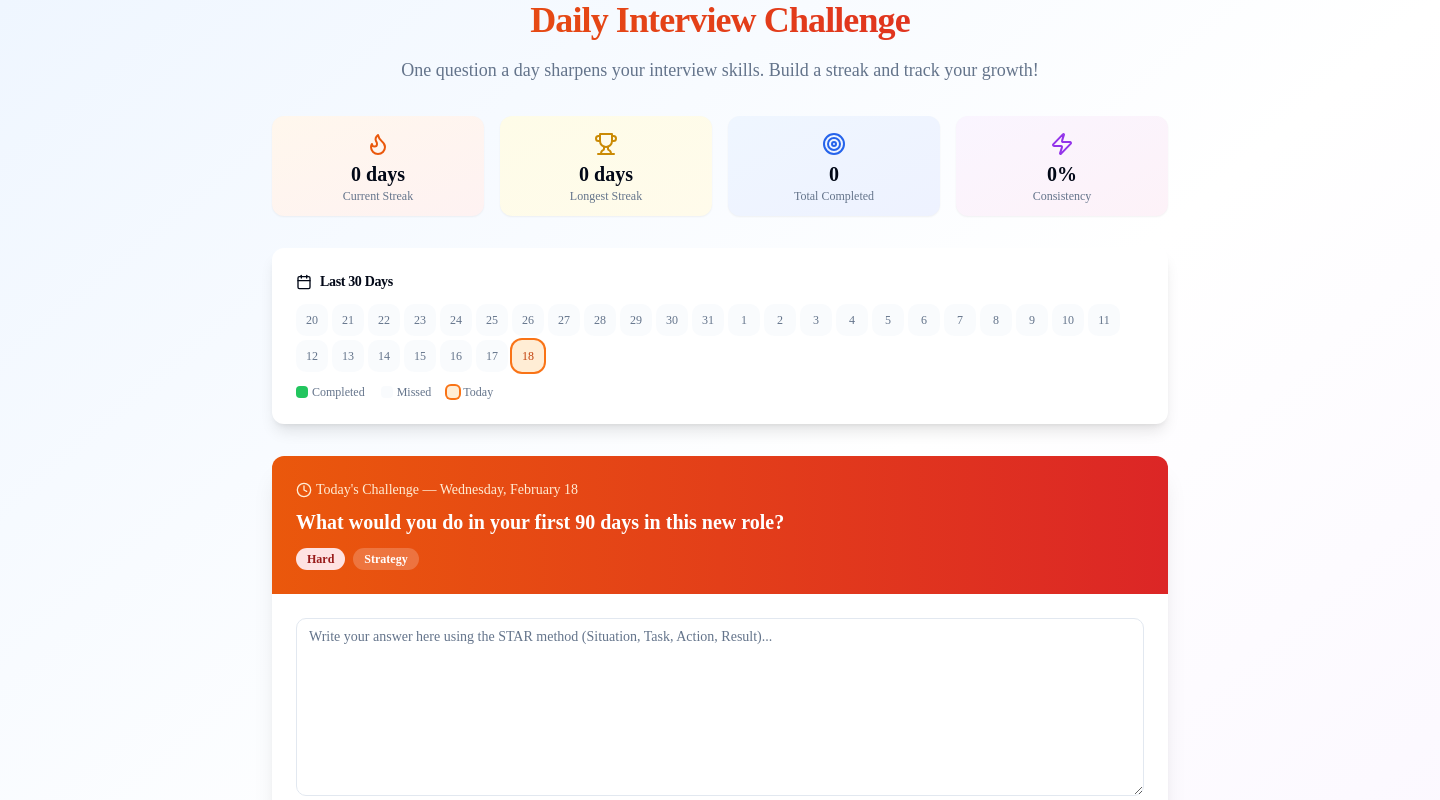
Test case: DailyChallengeClient › should submit answer and show completion state
Step 1. Replace the text in the text box with placeholder "STAR method" with "In my previous role at Company X, I was tasked with leading a critical project that required cross-functional collaboration. I organized weekly syncs and delivered on time." → (720, 707), box [296,618,1144,796]
(page scrolled)
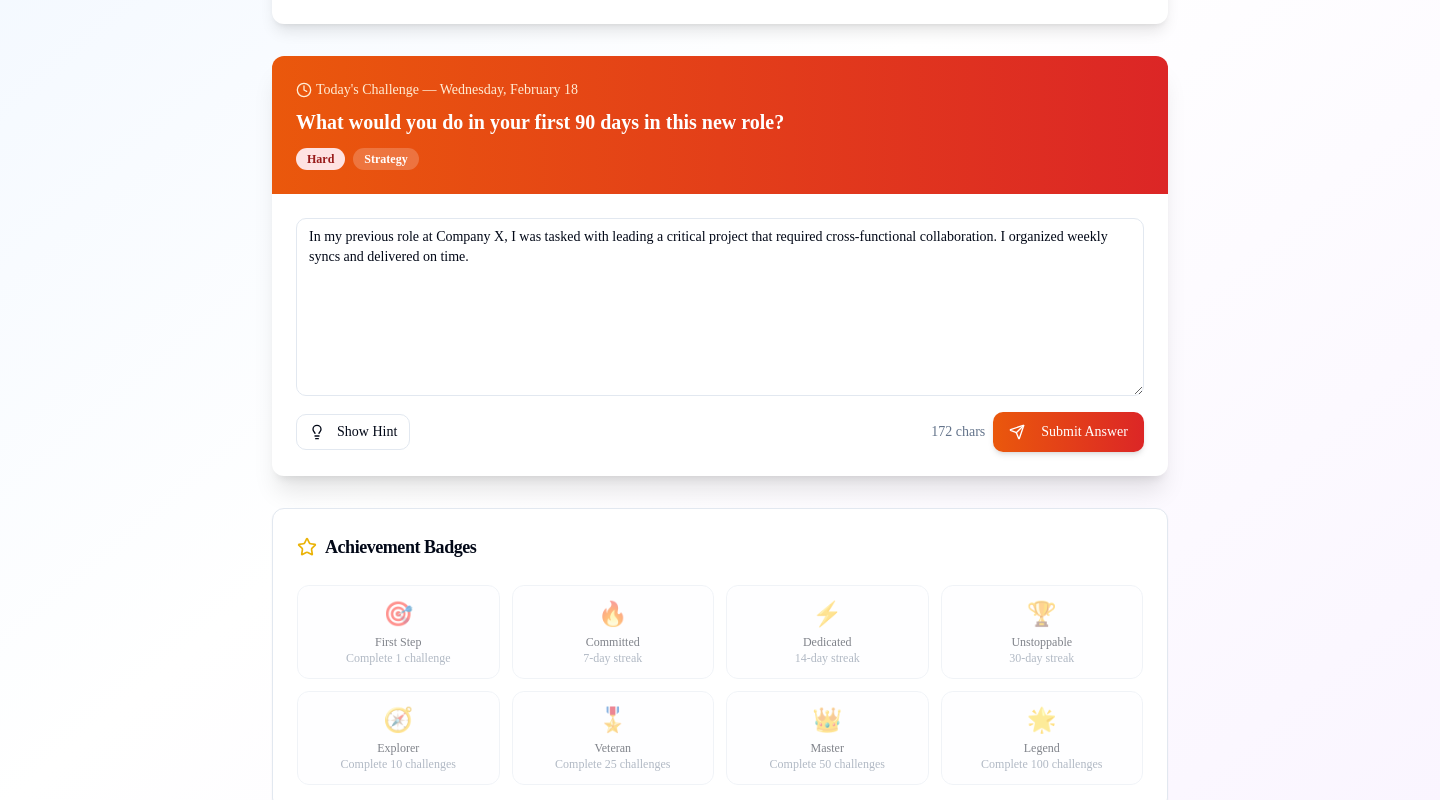
Step 2. Click the button "Submit Answer" → click(1069, 432), box [993,412,1144,452]
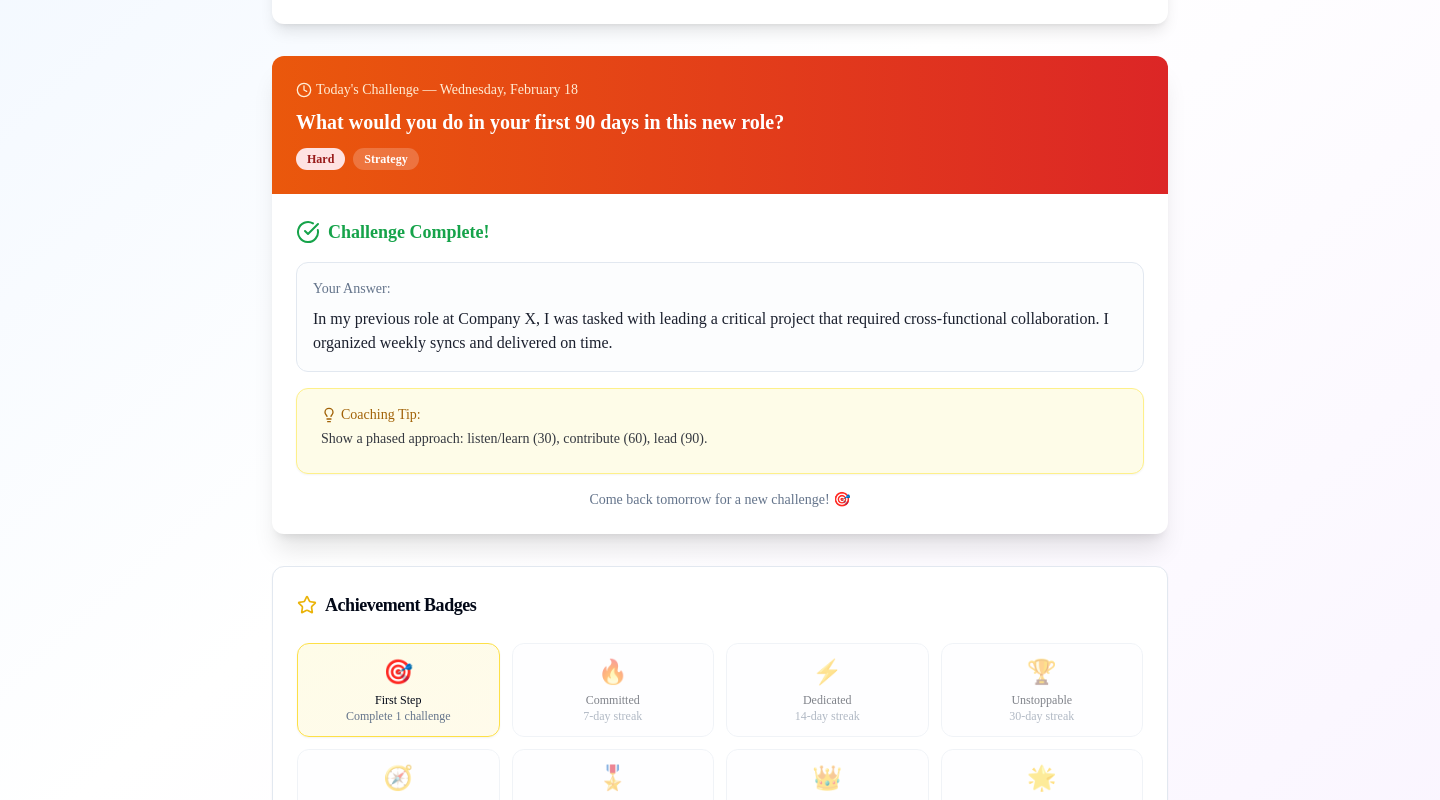
Check: the text "Challenge Complete!" is shown, box [328,218,490,246]
